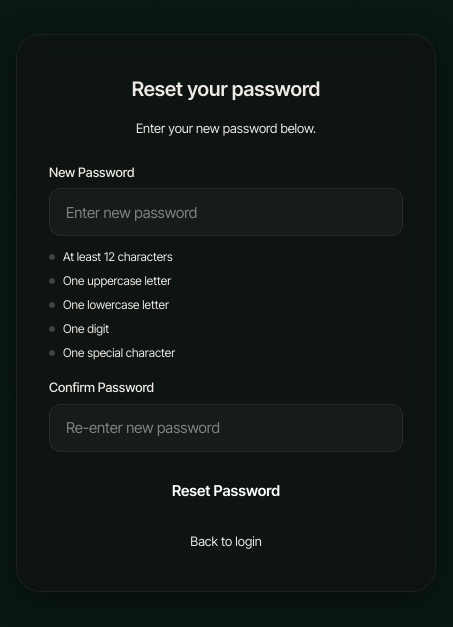
Test: ResetPasswordPage › shows error on API failure
Step 1. Type "NewPassword2@" into the password field labelled "New Password" → (226, 212), box [49,188,403,236]
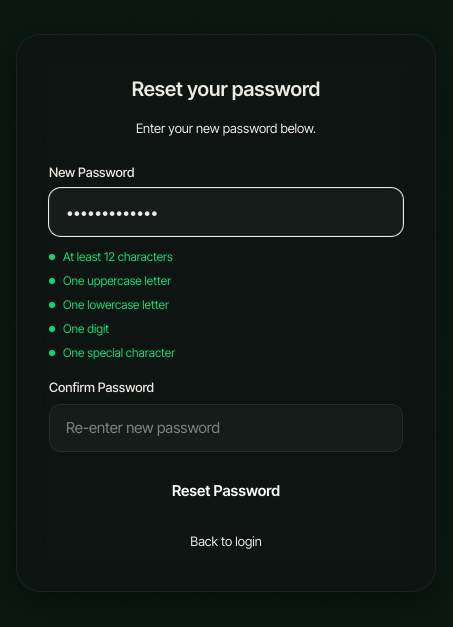
Step 2. Type "NewPassword2@" into the password field labelled "Confirm Password" → (226, 428), box [49,404,403,452]
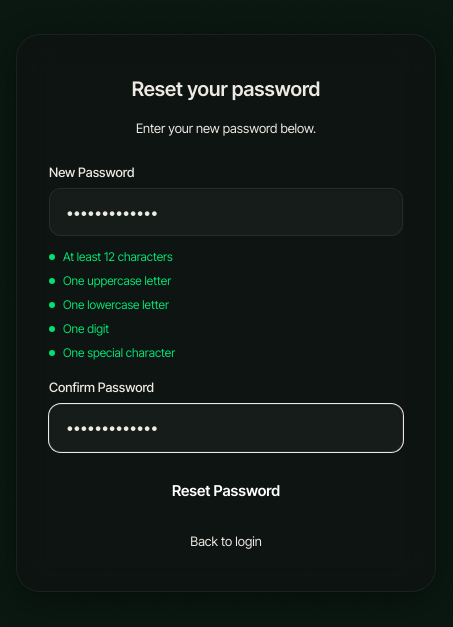
Step 3. Click the button "Reset Password" → (226, 492), box [49,468,403,516]
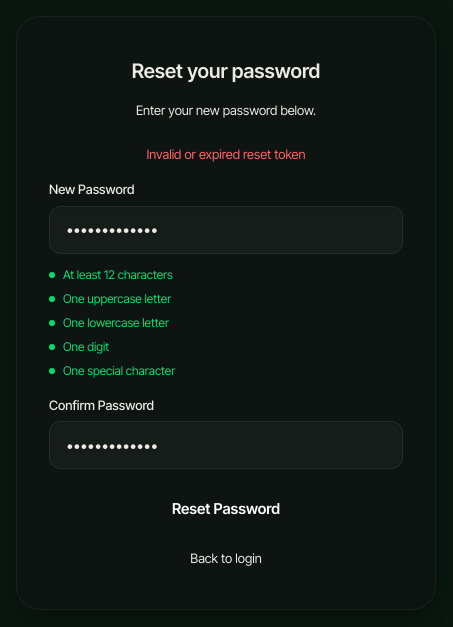
Result: the text "Invalid or expired reset token" is shown at [146,146,306,162]
